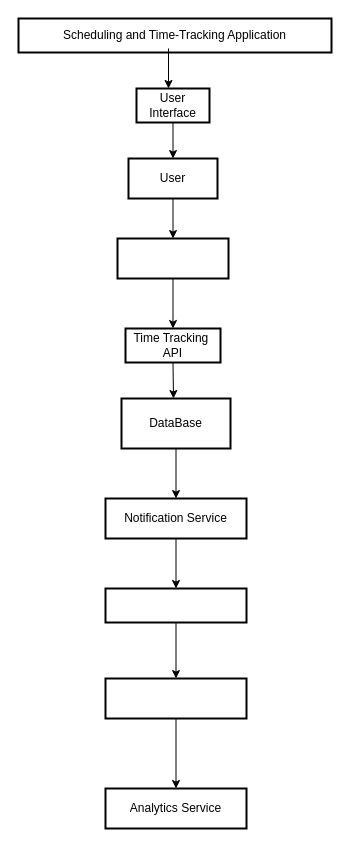
This 349x846 diagram has some shape labels left out. Here are the shapes that lost their labels. From the top down, the box of each, then its label:
(116, 237, 229, 279): Calendar API
(104, 587, 247, 623): Reporting Service
(104, 677, 247, 719): External Integration Service
